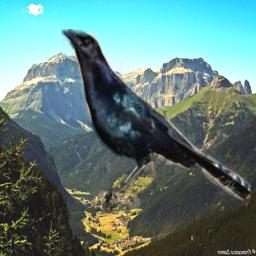Crow: (61, 29, 251, 213)
